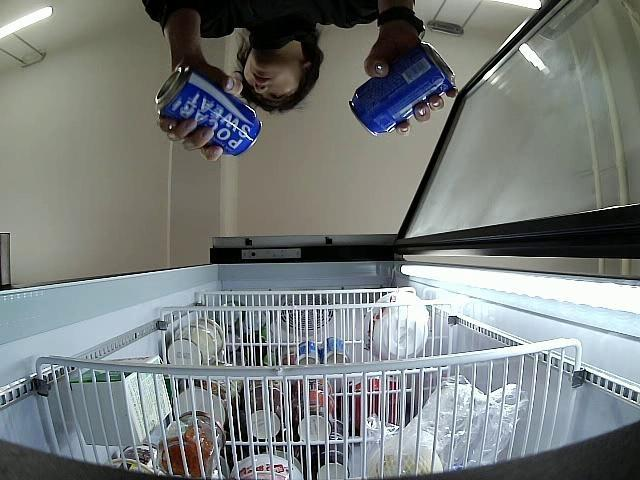13_pocariSweat: (346, 42, 454, 135), (157, 68, 260, 156)
